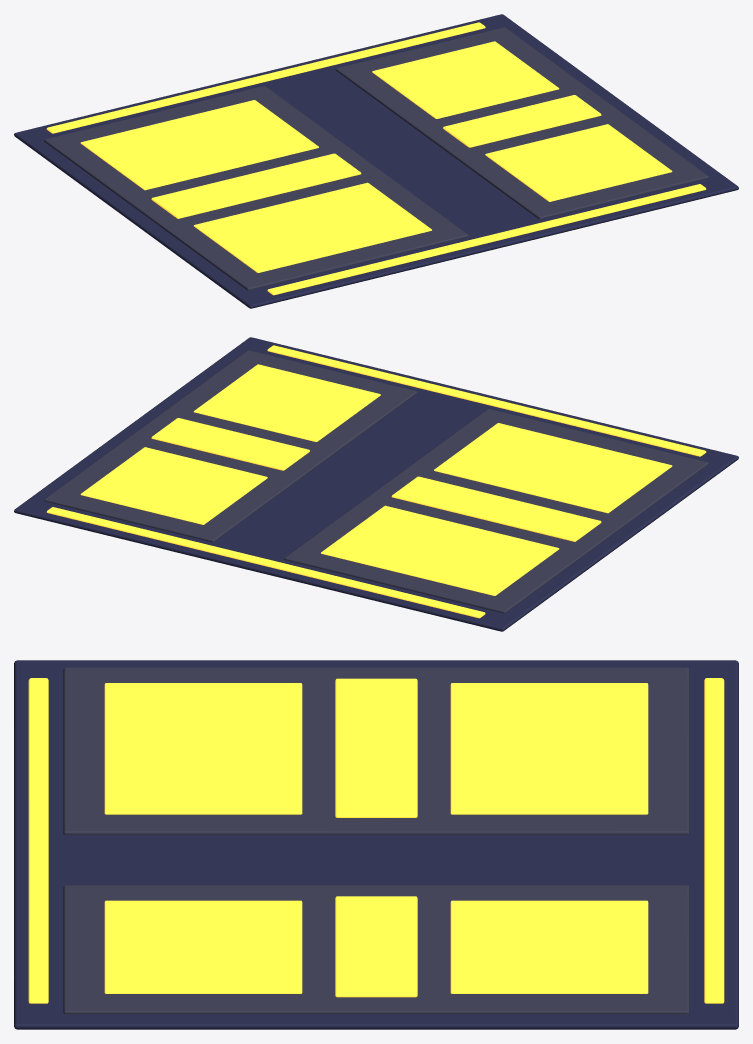
File: int.threshold.l1.25.glb
3 renders of one model, top to bottom at view 1: azimuth 30°, elevation 25°; view 2: azimuth 150°, elevation 25°; view 3: azimuth 270°, elevation 25°, orthographic. The views are drawn at different scales.
Visible parts, largest first — view 1: int.threshold.l1.25; view 2: int.threshold.l1.25; view 3: int.threshold.l1.25.
Boxes of the visible parts, x1,y1,x2,y2 form: int.threshold.l1.25: (14, 14, 738, 308); int.threshold.l1.25: (14, 337, 738, 631); int.threshold.l1.25: (14, 660, 738, 1029).
Bounding box in the file's own units: 1.05 × 0.016 × 0.88.
